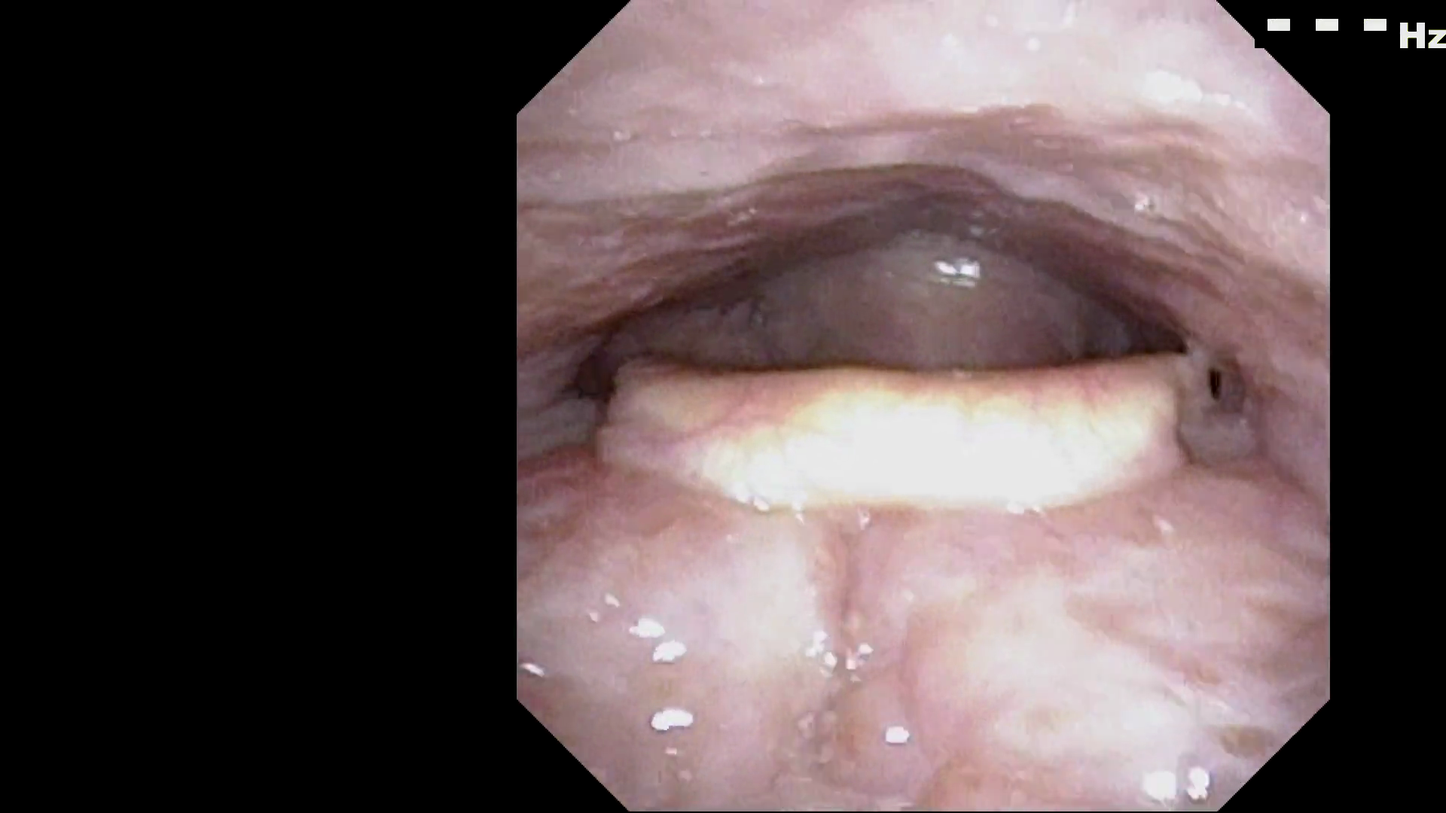epiglottis: (615, 300, 1169, 549)
